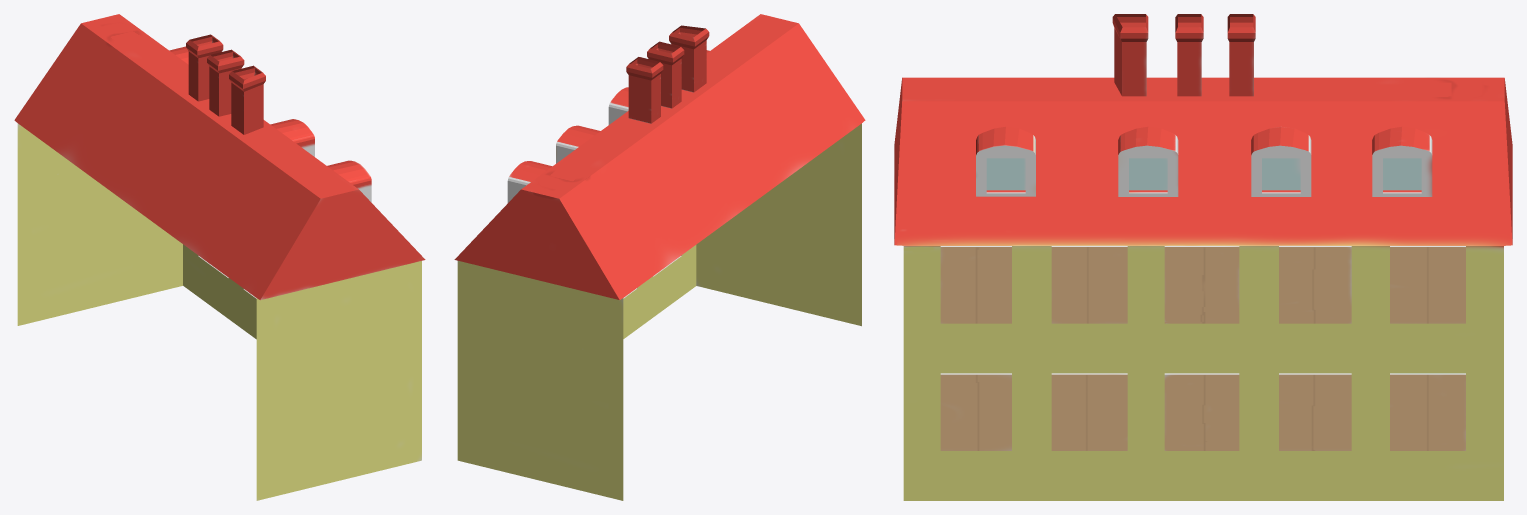
File: House3.fbx
3 views of the same model, side by side, from view 1: azimuth 30°, elevation 25°; view 2: azimuth 150°, elevation 25°; view 3: azimuth 270°, elevation 25° (orthographic). The views are drawn at different scales.
Visible parts, largest first — view 1: Cube; view 2: Cube; view 3: Cube.
Boxes of the visible parts, <box> form: Cube: <box>14,14,425,500</box>; Cube: <box>454,14,865,500</box>; Cube: <box>894,14,1512,500</box>.
Bounding box in the file's own units: 810 × 1580 × 2059.
